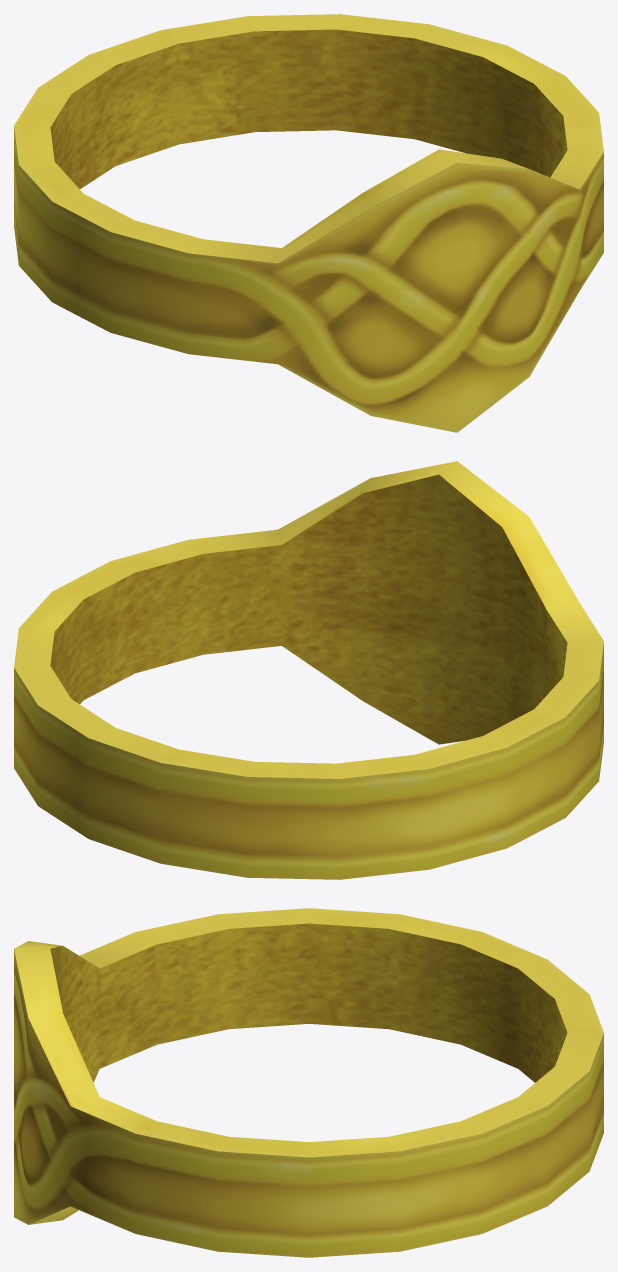
Rendered from ring_gold_17.fbx.
3 views of the same model, one above another, from view 1: azimuth 30°, elevation 25°; view 2: azimuth 150°, elevation 25°; view 3: azimuth 270°, elevation 25° (orthographic).
Parts seen in each view (by area): view 1: ring_gold_17; view 2: ring_gold_17; view 3: ring_gold_17.
Part boxes in pixels (x1=…): ring_gold_17: x1=14, y1=14, x2=603, y2=432; ring_gold_17: x1=14, y1=461, x2=603, y2=879; ring_gold_17: x1=14, y1=908, x2=603, y2=1257.
Bounding box in the file's own units: 2.04 × 1.03 × 2.04.
